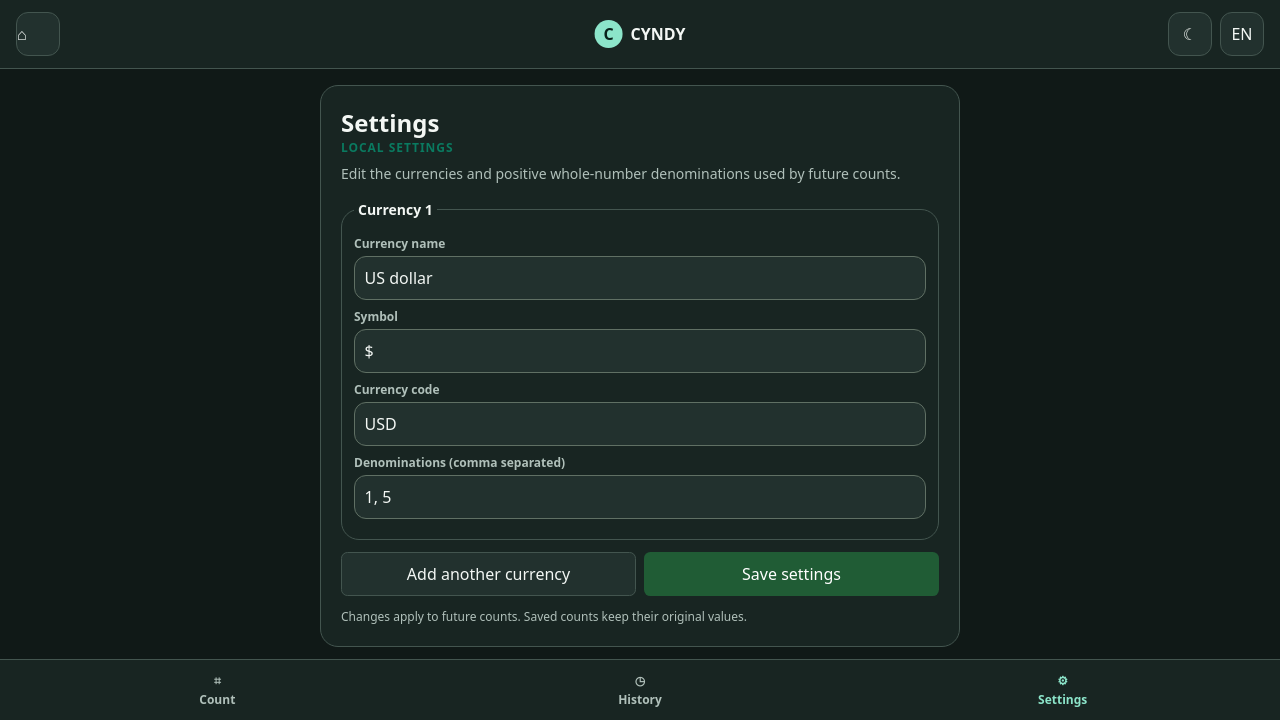
Scenario: configuration routes › removes saved feedback when settings become dirty
The width and height of the screenshot is (1280, 720).
Expected: the heading "Settings" is shown, [341,106,440,139]
Click the button "Save settings": x=792, y=574 [644,552,939,596]
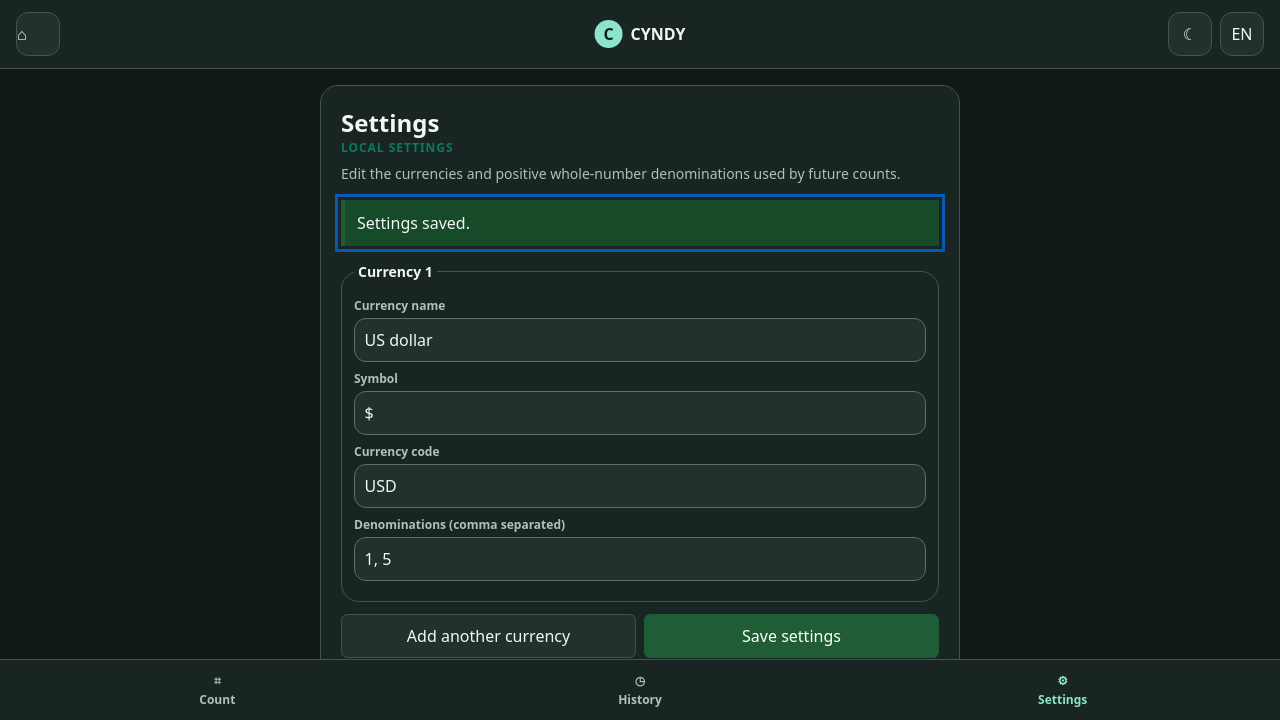
Expected: the message reads "Settings saved.", [357,212,470,234]
Replace the text in the field labelled "Denominations (comma separated)" with "10, 20": x=640, y=559 [354,537,926,581]
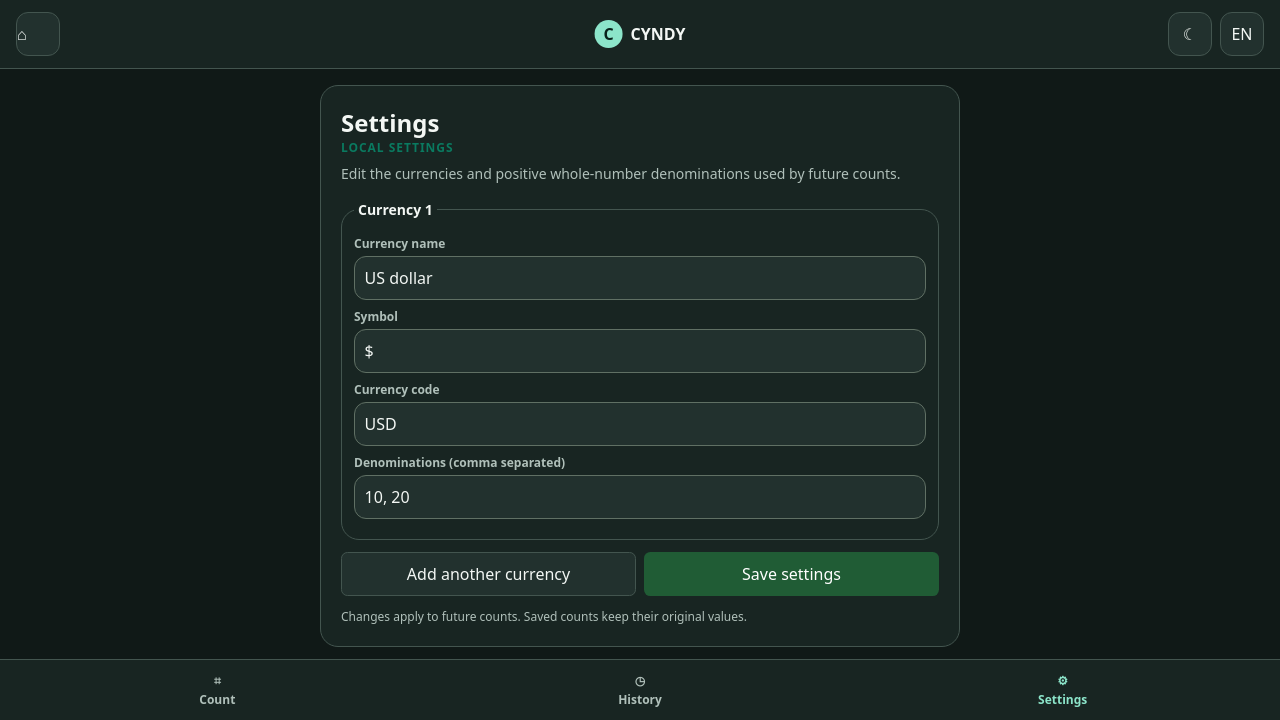
Expected: the message "Settings saved." is gone
